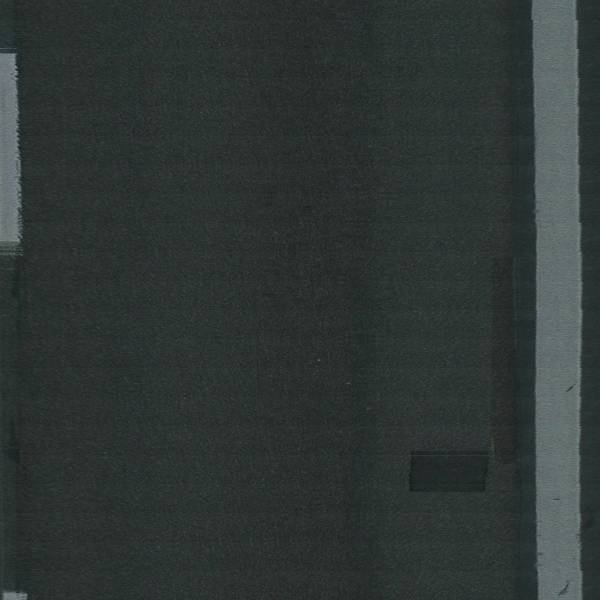road_damage: (401, 445, 494, 497)
